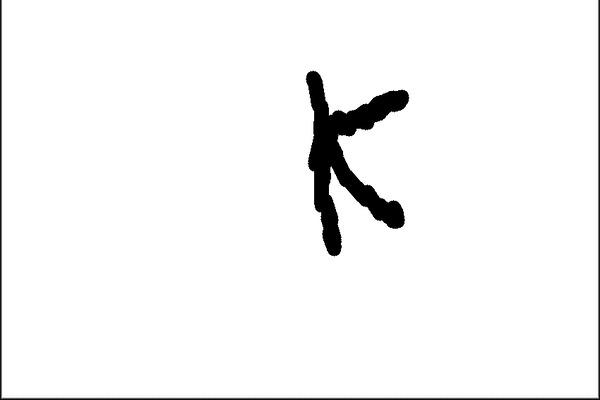K: (293, 60, 416, 262)
